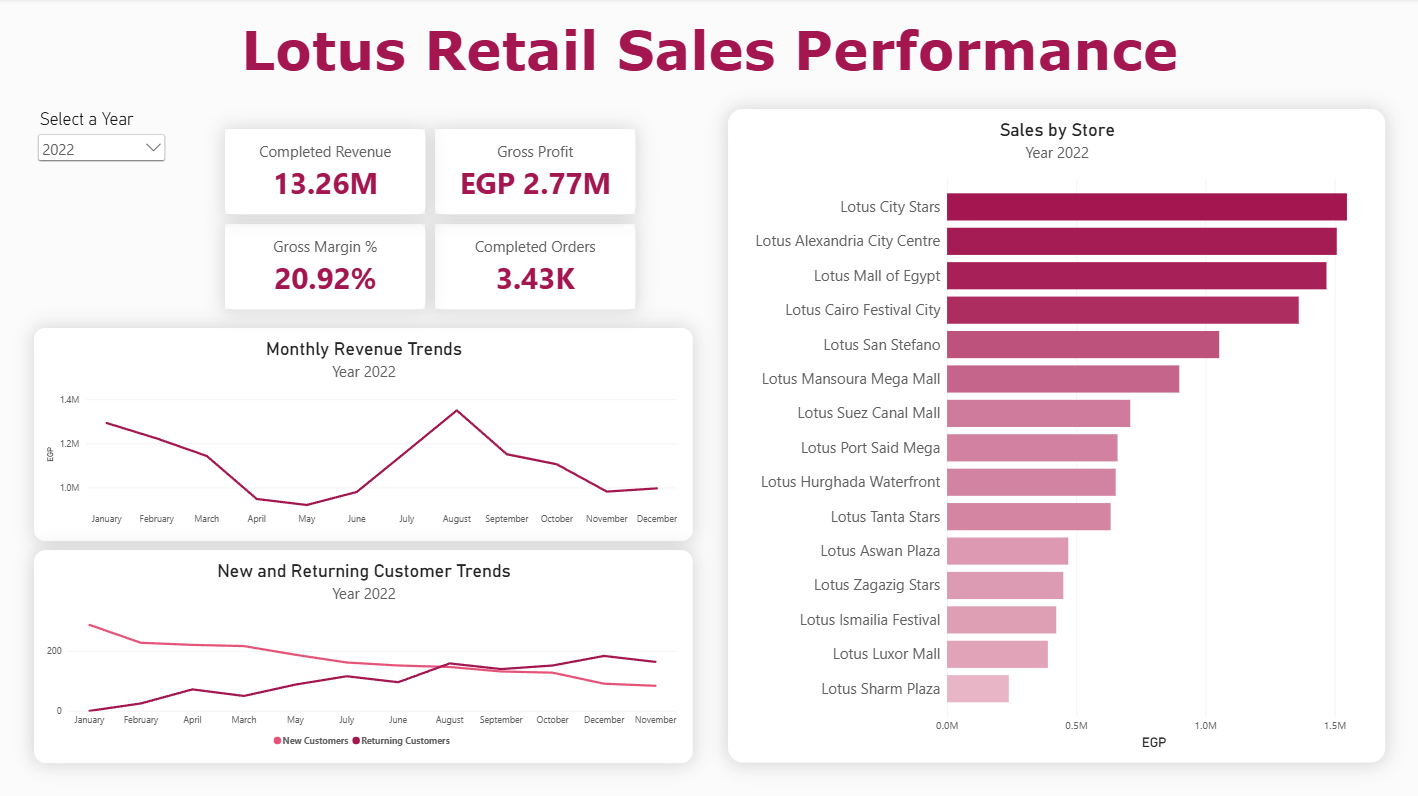

What the dashboard file says about the page in this screenshot:
{"tool":"powerbi","page":{"name":"Page 1","canvas":[1920,1080],"ordinal":0},"visuals":[{"type":"lineChart","title":"Monthly Revenue Trends","fields":{"Category":["fact_orders.Order Date.Variation.Date Hierarchy.Month"],"Y":["Sum(fact_orders.Total Revenue)"]},"box":[50,445,886.7,286.7],"z":0},{"type":"slicer","fields":{"Values":["dim_date.Year"]},"box":[50,150,181.7,78.3],"z":1000},{"type":"barChart","title":"Sales by Store","fields":{"Category":["dim_stores.Store Name"],"Y":["Sum(fact_orders.Total Revenue)"]},"box":[985,150,885,880],"z":2000},{"type":"lineChart","title":"New and Returning Customer Trends","fields":{"Category":["dim_date.Month Name"],"Y":["fact_orders.New Customers","fact_orders.Returning Customers (Display)"]},"box":[50,743.3,886.7,286.7],"z":3000},{"type":"cardVisual","fields":{"Data":["fact_orders.Completed Orders"]},"box":[590,304,270,115],"z":4000},{"type":"cardVisual","fields":{"Data":["fact_orders.Gross Profit"]},"box":[590,177,270,115],"z":5000},{"type":"cardVisual","fields":{"Data":["fact_orders.Gross Margin %"]},"box":[307,304,270,115],"z":6000},{"type":"textbox","box":[0,26,1920,98.3],"z":7000},{"type":"cardVisual","fields":{"Data":["fact_orders.Completed Revenue"]},"box":[306.7,176.7,270,115],"z":8000}]}

Visuals, with their boxes in screenshot pixels (x1, y1, x2, y2), scaled from the page's 1920x1080 canvas onto the 1418x796 screenshot:
"Monthly Revenue Trends" lineChart: [left=37, top=328, right=692, bottom=539]
slicer - dim_date.Year: [left=37, top=111, right=171, bottom=168]
"Sales by Store" barChart: [left=727, top=111, right=1381, bottom=759]
"New and Returning Customer Trends" lineChart: [left=37, top=548, right=692, bottom=759]
cardVisual - fact_orders.Completed Orders: [left=436, top=224, right=635, bottom=309]
cardVisual - fact_orders.Gross Profit: [left=436, top=130, right=635, bottom=215]
cardVisual - fact_orders.Gross Margin %: [left=227, top=224, right=426, bottom=309]
textbox: [left=0, top=19, right=1417, bottom=92]
cardVisual - fact_orders.Completed Revenue: [left=227, top=130, right=426, bottom=215]
